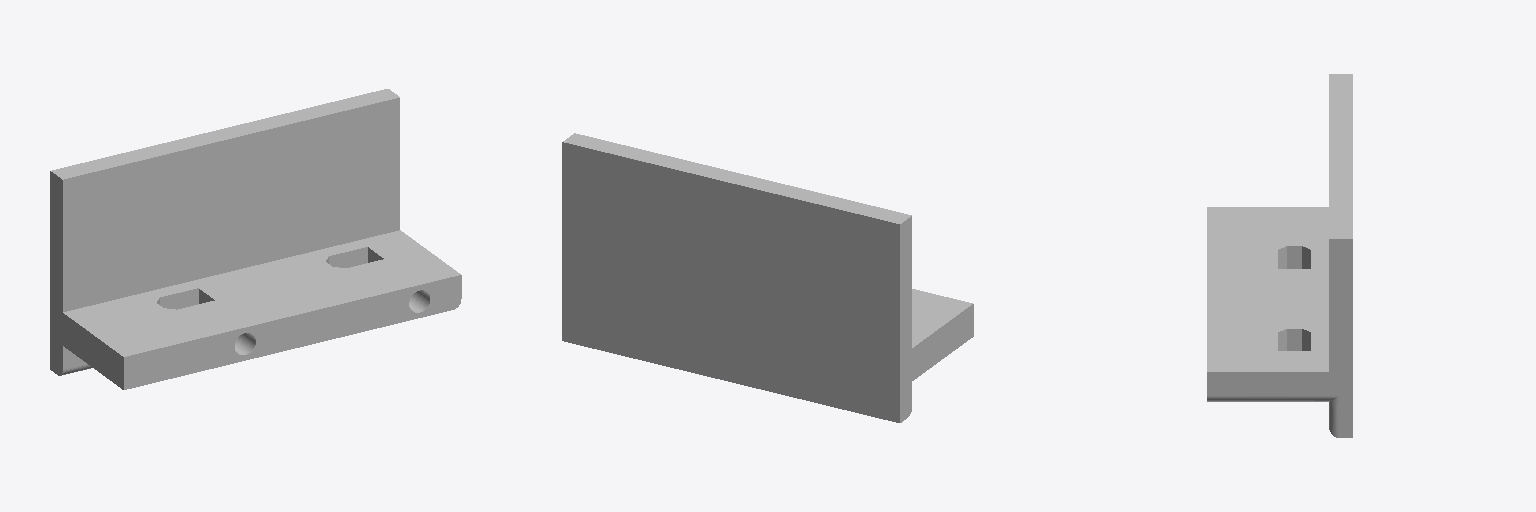
The model's file is right.obj.
The picture shows the model from 3 angles: view 1: azimuth 30°, elevation 25°; view 2: azimuth 150°, elevation 25°; view 3: azimuth 270°, elevation 25°; orthographic projection.
Parts seen in each view (by area): view 1: Body5; view 2: Body5; view 3: Body5.
Part boxes in pixels (left/top/right/bottom): Body5: left=50, top=89, right=461, bottom=389; Body5: left=562, top=133, right=973, bottom=422; Body5: left=1207, top=74, right=1352, bottom=437.
Size of the model in its own units: 79.87 by 45 by 30.